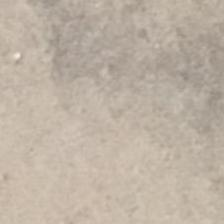Non_Crack: (13, 3, 223, 224)
